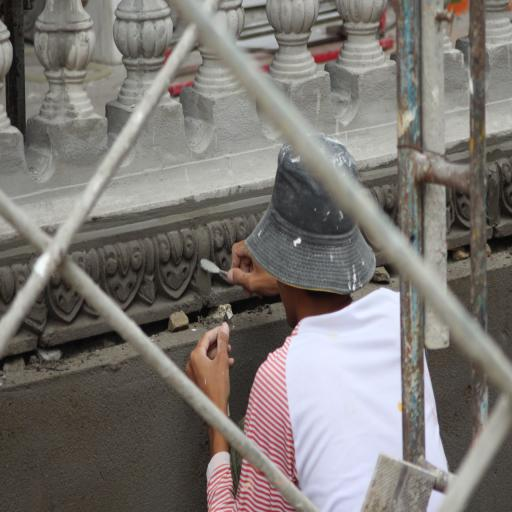la: (151, 221, 206, 300), (97, 244, 148, 312), (4, 254, 50, 326), (209, 210, 258, 276), (49, 262, 90, 328), (496, 160, 512, 218)
